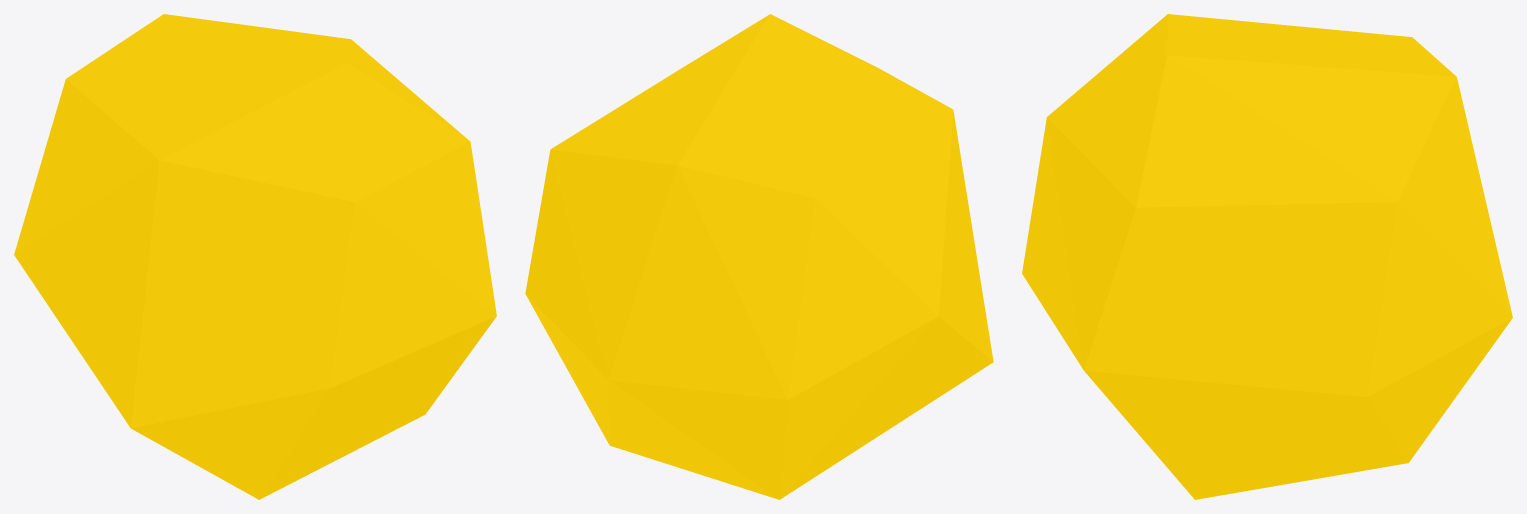
Rendered from shiny_rock.glb.
The picture shows the model from 3 angles, left to right: view 1: azimuth 30°, elevation 25°; view 2: azimuth 150°, elevation 25°; view 3: azimuth 270°, elevation 25°; orthographic projection. The views are drawn at different scales.
Parts seen in each view (by area): view 1: Cube; view 2: Cube; view 3: Cube.
Boxes of the visible parts, x1=… form: Cube: x1=14, y1=14, x2=496, y2=499; Cube: x1=525, y1=14, x2=993, y2=499; Cube: x1=1022, y1=14, x2=1512, y2=499.
Size of the model in its own units: 0.5671 by 0.5521 by 0.5697.
